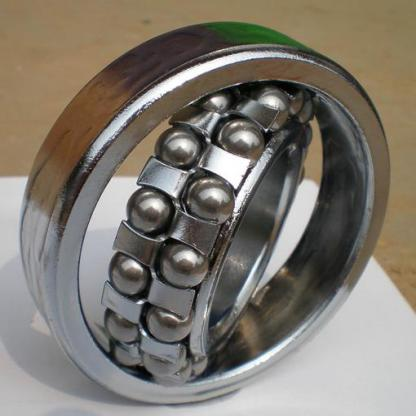FOD: (16, 18, 397, 406)
